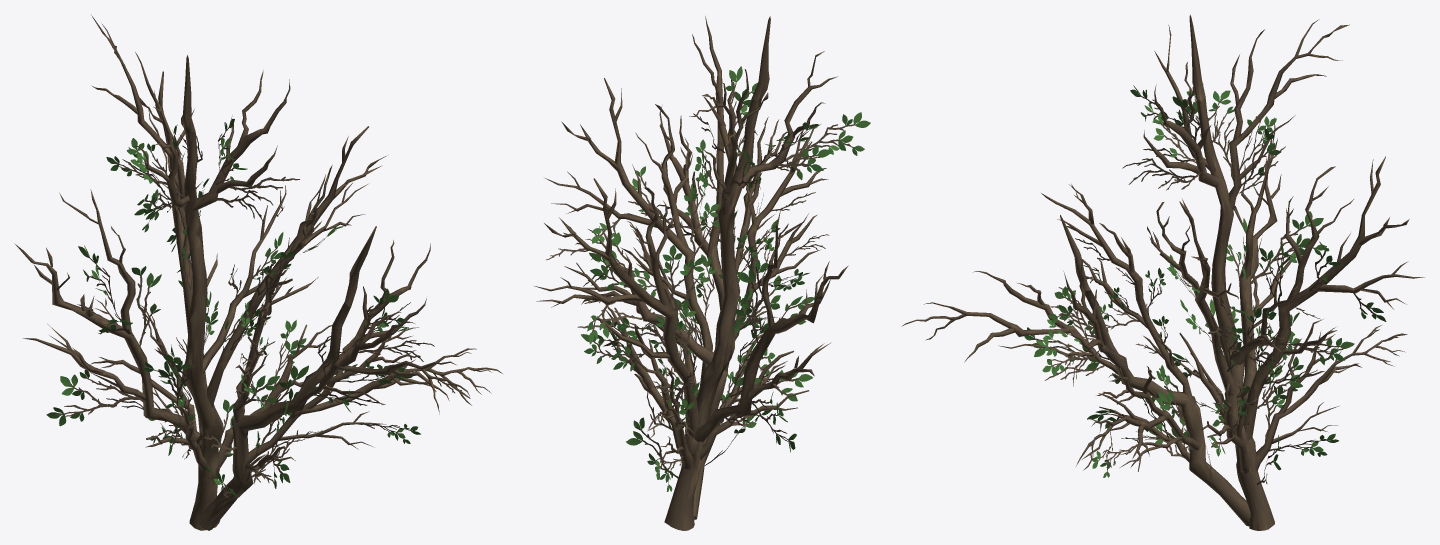
File: SM_FW01_Tree_B_Dead_10.fbx
3 renders of one model, left to right at view 1: azimuth 30°, elevation 25°; view 2: azimuth 150°, elevation 25°; view 3: azimuth 270°, elevation 25°, orthographic. The views are drawn at different scales.
Visible parts, largest first — view 1: SM_FW01_Tree_B_Dead_10_LOD0; view 2: SM_FW01_Tree_B_Dead_10_LOD0; view 3: SM_FW01_Tree_B_Dead_10_LOD0.
Part boxes in pixels (bbox=[...]): SM_FW01_Tree_B_Dead_10_LOD0: bbox=[14, 15, 502, 530]; SM_FW01_Tree_B_Dead_10_LOD0: bbox=[534, 16, 870, 530]; SM_FW01_Tree_B_Dead_10_LOD0: bbox=[901, 14, 1424, 530].
Size of what is drawn, in the model's own units: 5.55 by 7.02 by 6.85.
